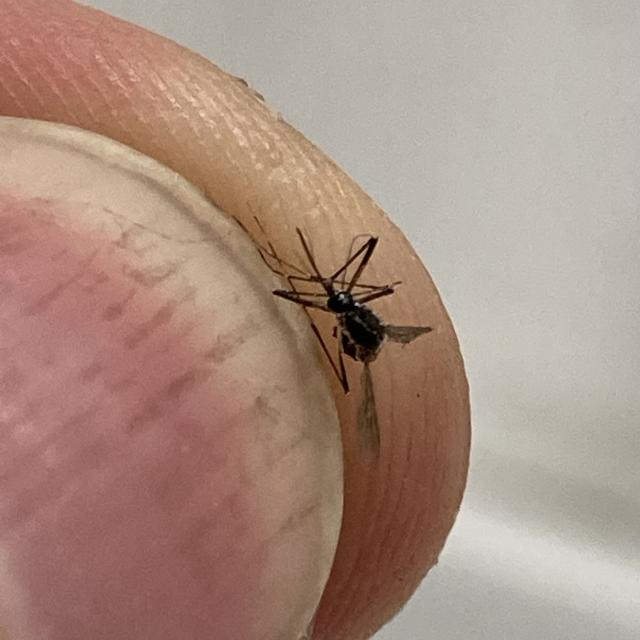albopictus: (220, 204, 436, 406)
